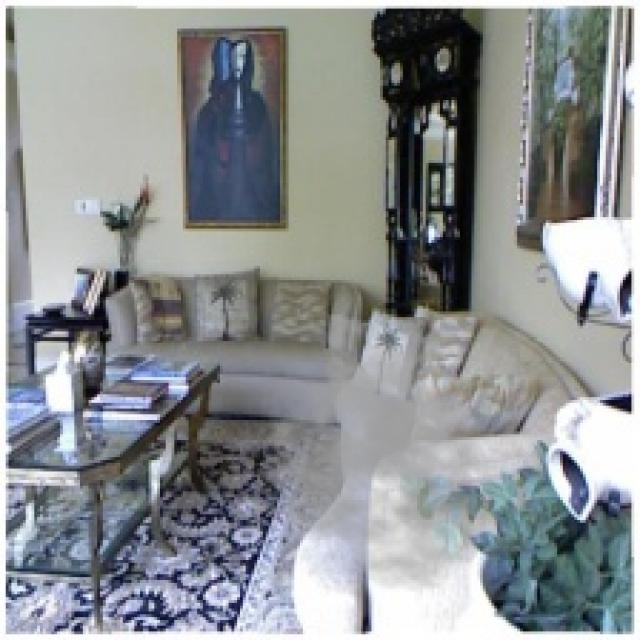smoke: (254, 312, 509, 594)
